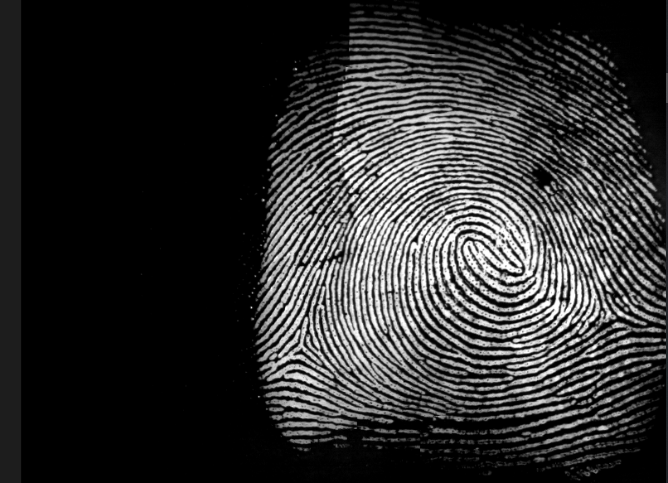nucelo: (458, 233, 506, 274)
verticilo: (585, 294, 633, 330), (282, 332, 321, 366)
